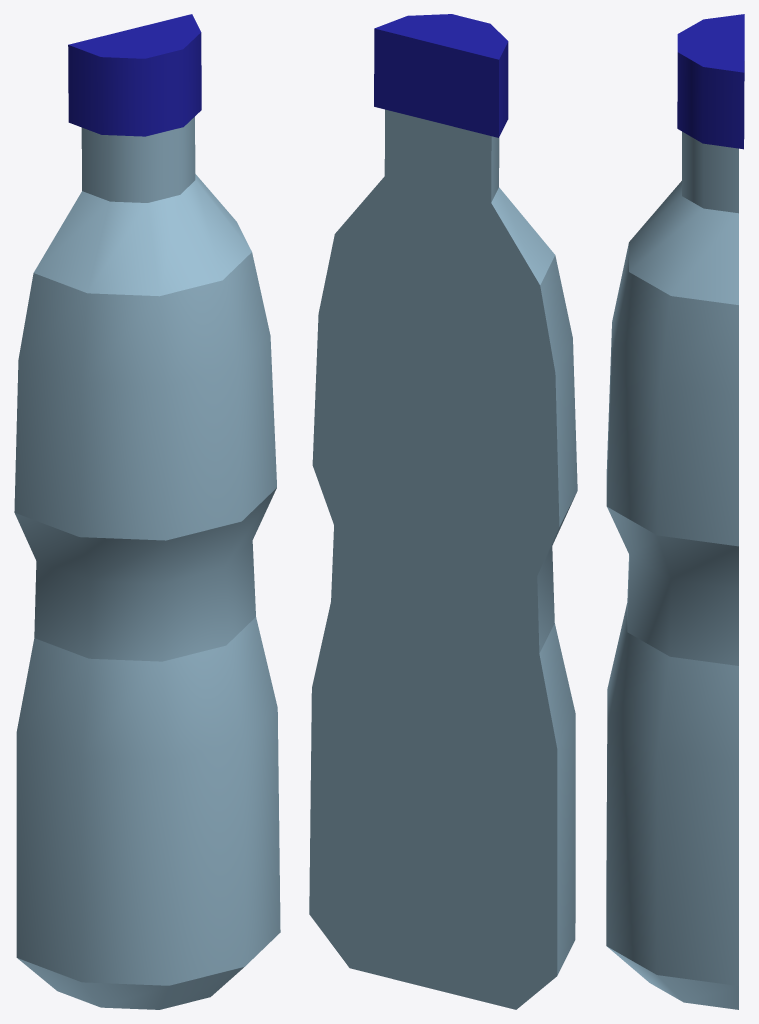
File: prima-a_bottle.FBX
The picture shows the model from 3 angles, left to right: view 1: azimuth 30°, elevation 25°; view 2: azimuth 150°, elevation 25°; view 3: azimuth 270°, elevation 25°; orthographic projection. The views are drawn at different scales.
Visible parts, largest first — view 1: Object01; view 2: Object01; view 3: Object01.
Part boxes in pixels (x1,y1,x2,y2): Object01: (14,14,280,1009); Object01: (309,14,577,1009); Object01: (606,14,744,1009).
Bounding box in the file's own units: 37.68 × 137 × 18.56.
